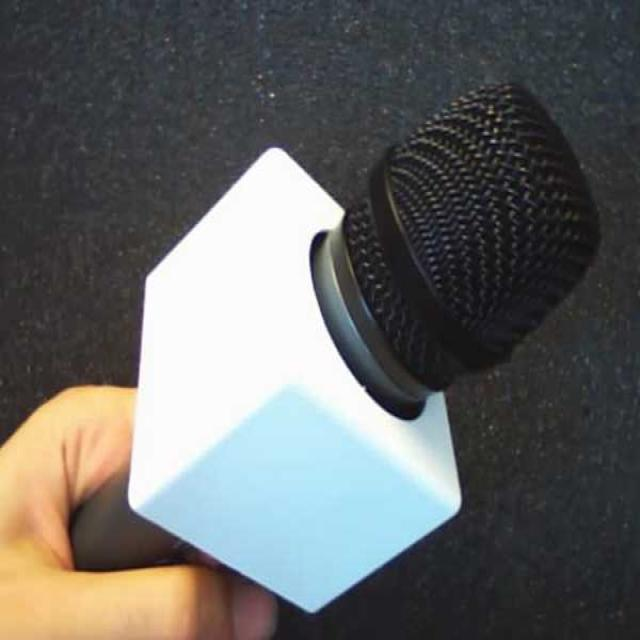microphone: (66, 80, 598, 624)
